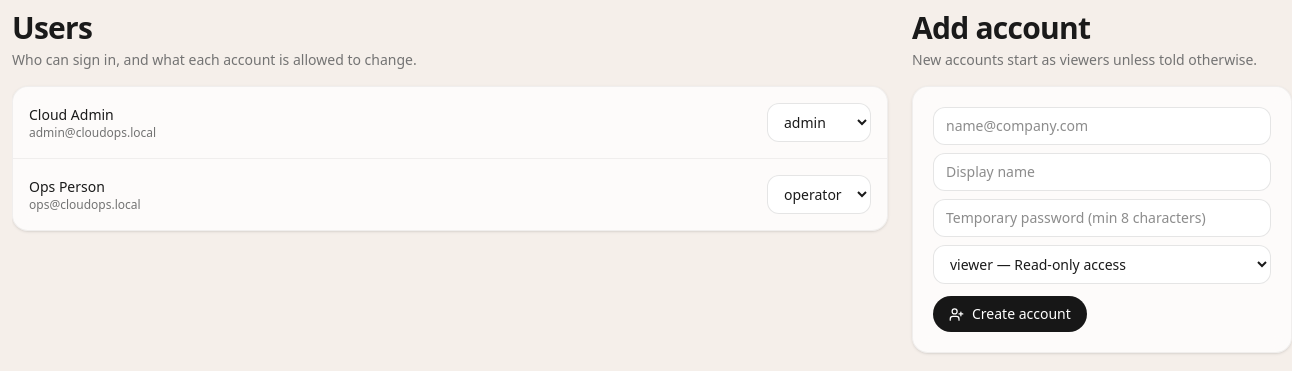
Scenario: as an admin › refuses a password the API would reject anyway
Type "short@cloudops.local" into the field named "Email" at (1102, 126), box top-left (933, 107), bottom-right (1271, 145)
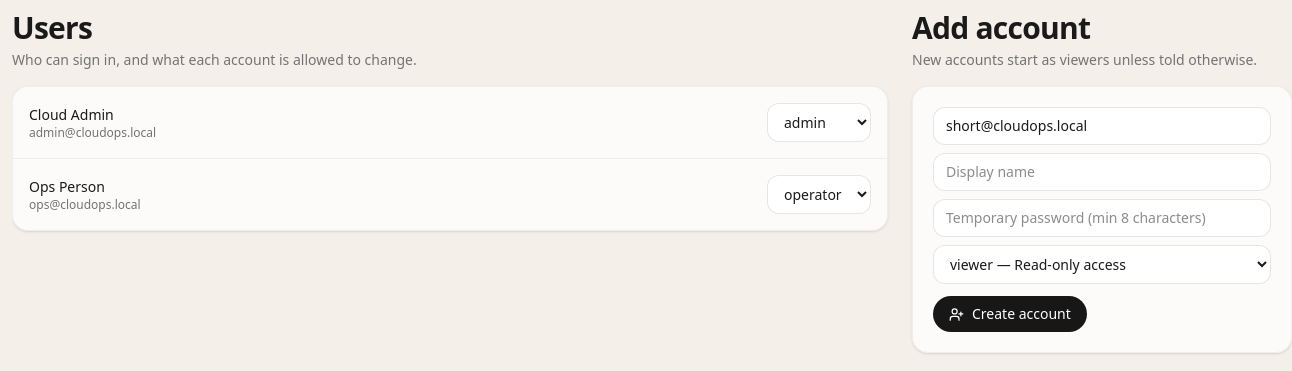
Type "short" into the password field labelled "Temporary password" at (1102, 218), box top-left (933, 199), bottom-right (1271, 237)
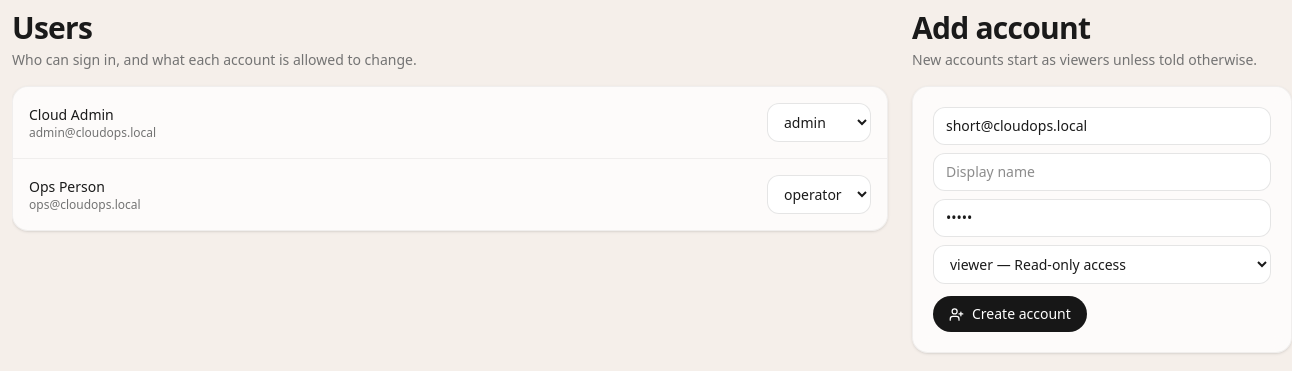
Click the button "Create account" at (1010, 314), box top-left (933, 296), bottom-right (1087, 332)
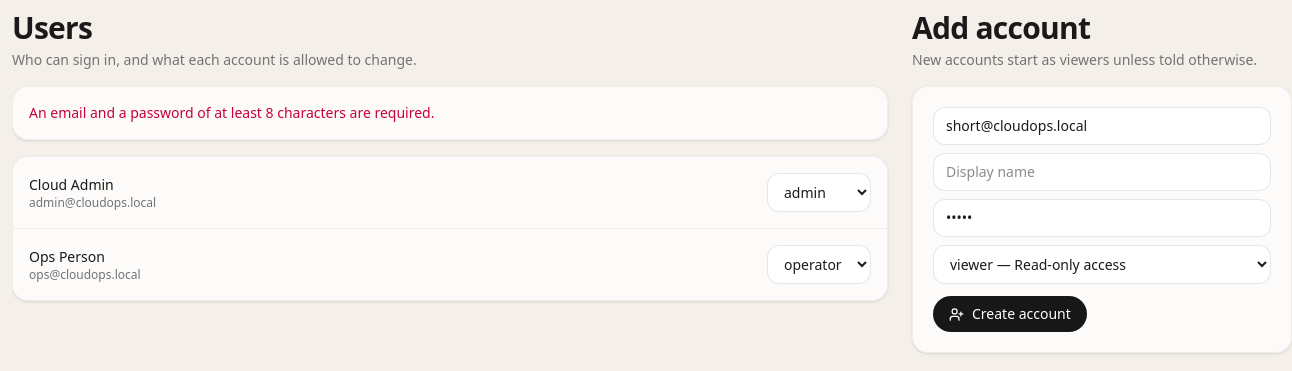
Now the text "at least 8 characters" is shown, box top-left (29, 103), bottom-right (434, 122)
